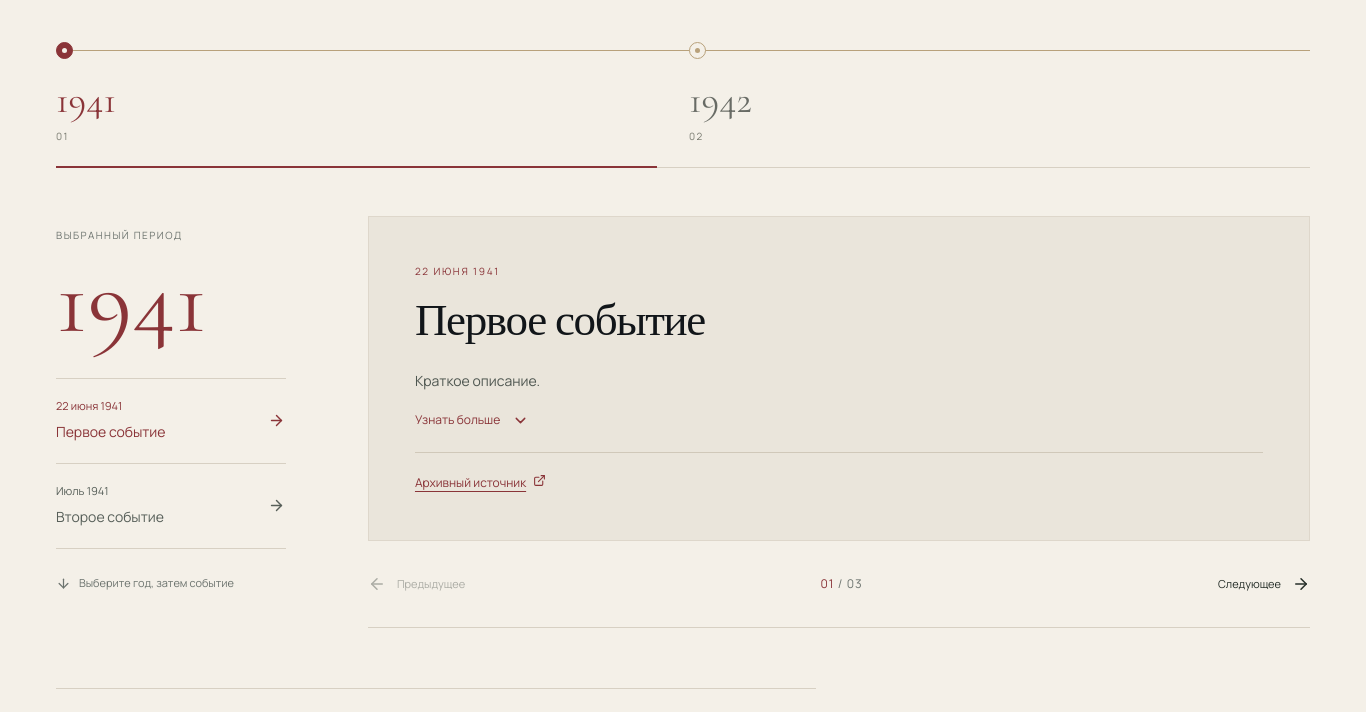
Test: Лента времени › раскрывает сведения и поддерживает переход между периодами и соседними событиями
(page scrolled)
Expected: the button "Предыдущее" is disabled, x1=368 y1=562 x2=465 y2=606
Expected: the text "Дополнительные сведения первого события." is not shown
Click the button "Узнать больше" at (472, 420), box x1=415 y1=394 x2=529 y2=446
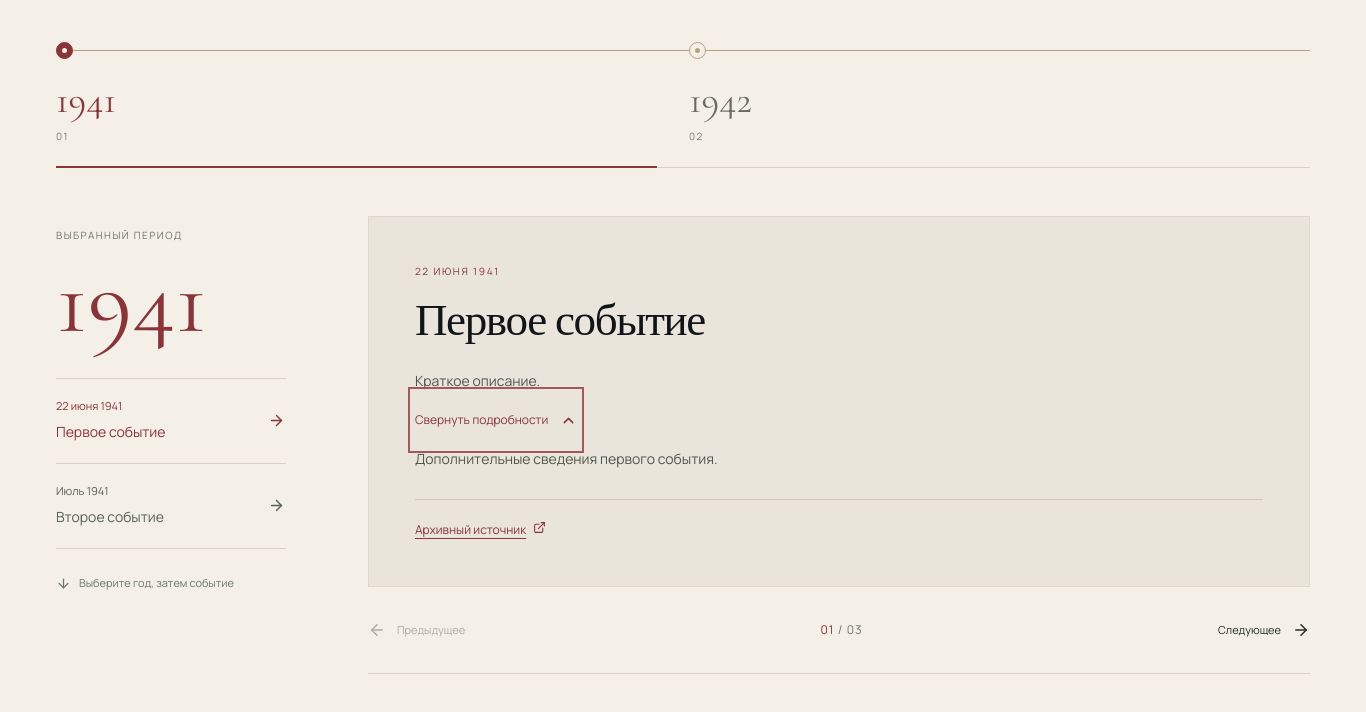
Expected: the text "Дополнительные сведения первого события." is shown, x1=415 y1=449 x2=718 y2=468
Click the button named "1942: выбрать период" at (720, 100), box x1=677 y1=42 x2=1310 y2=167
(page scrolled)
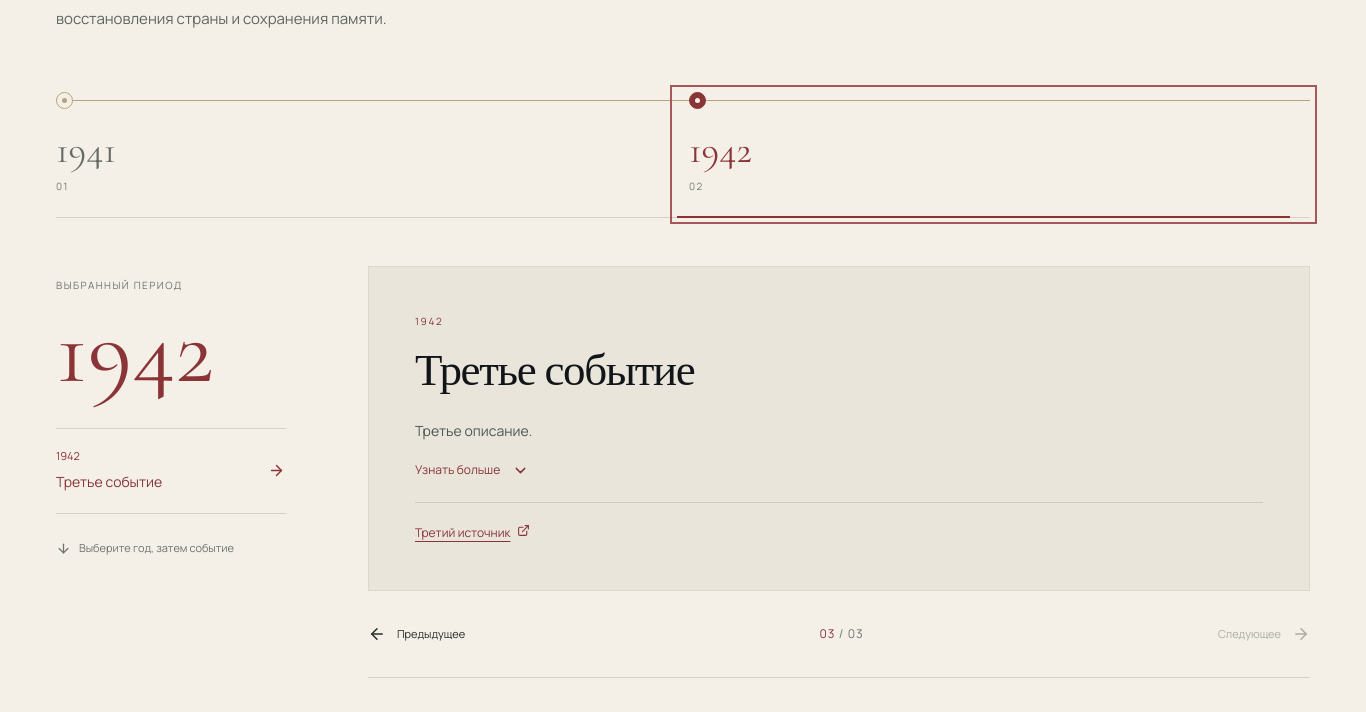
Expected: the heading "Третье событие" is shown, x1=415 y1=343 x2=694 y2=398
Expected: the button "Следующее" is disabled, x1=1218 y1=612 x2=1310 y2=656
Click the button "Предыдущее" at (417, 634), box x1=368 y1=612 x2=465 y2=656
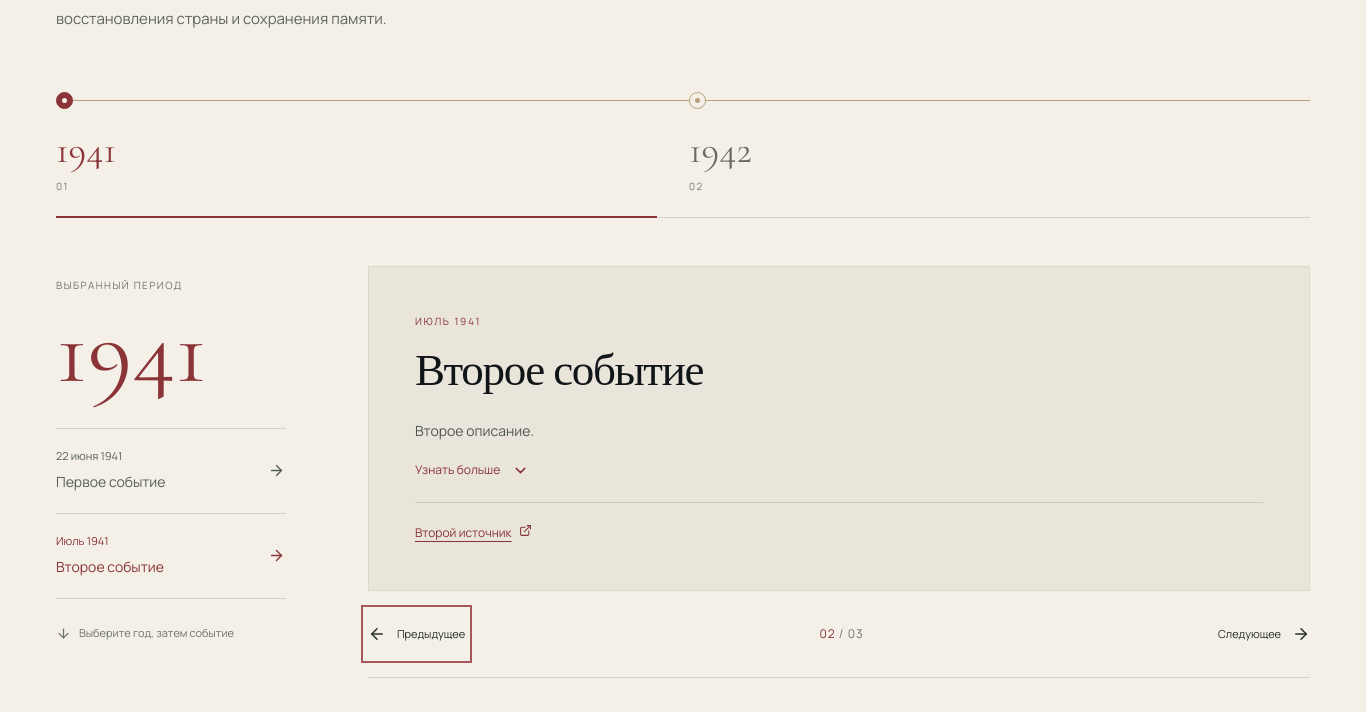
Expected: the heading "Второе событие" is shown, x1=415 y1=343 x2=703 y2=398
